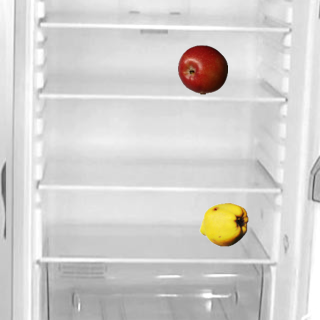Apple Braeburn: (177, 44, 227, 94)
Quince: (198, 199, 248, 249)
